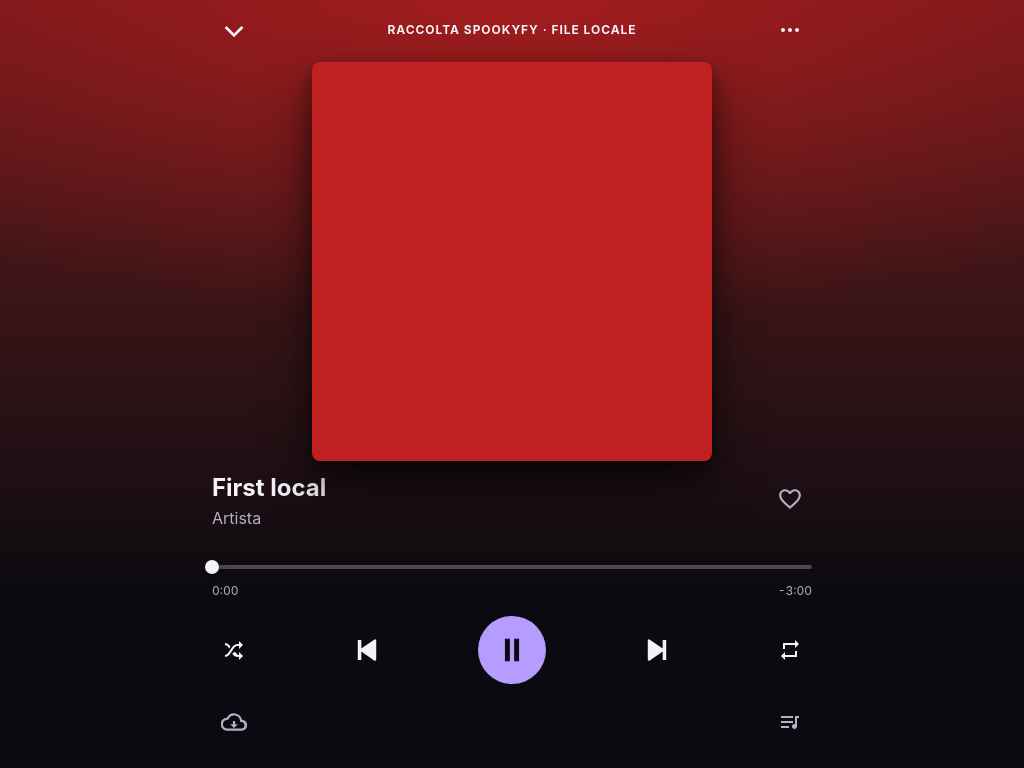
Test case: local occurrence transport and Media Session skip the hybrid queue while legacy playback stays unchanged
Check: the text "Raccolta Spookyfy · File locale" is shown, box 387,22 -> 637,38
Step 1. Click the button named "Brano successivo" → (657, 650), box 629,622 -> 685,678
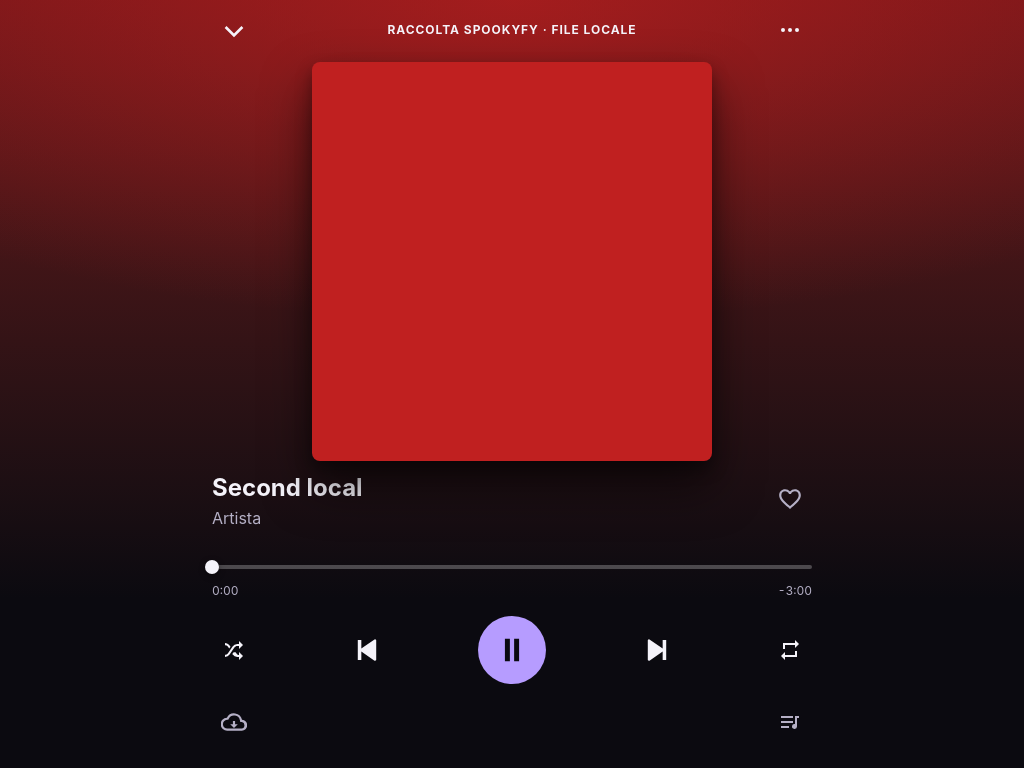
Check: the text "Second local" is shown, box 212,471 -> 363,505
Step 2. Click the button named "Brano precedente" → (367, 650), box 339,622 -> 395,678
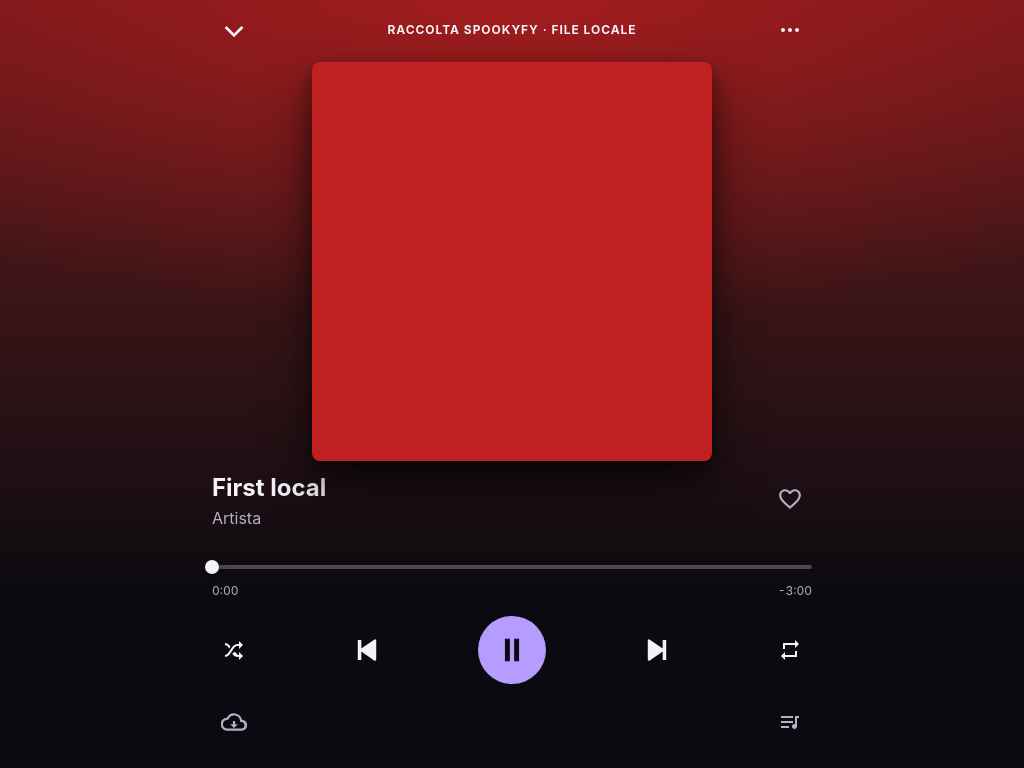
Check: the text "First local" is shown, box 212,471 -> 326,505
